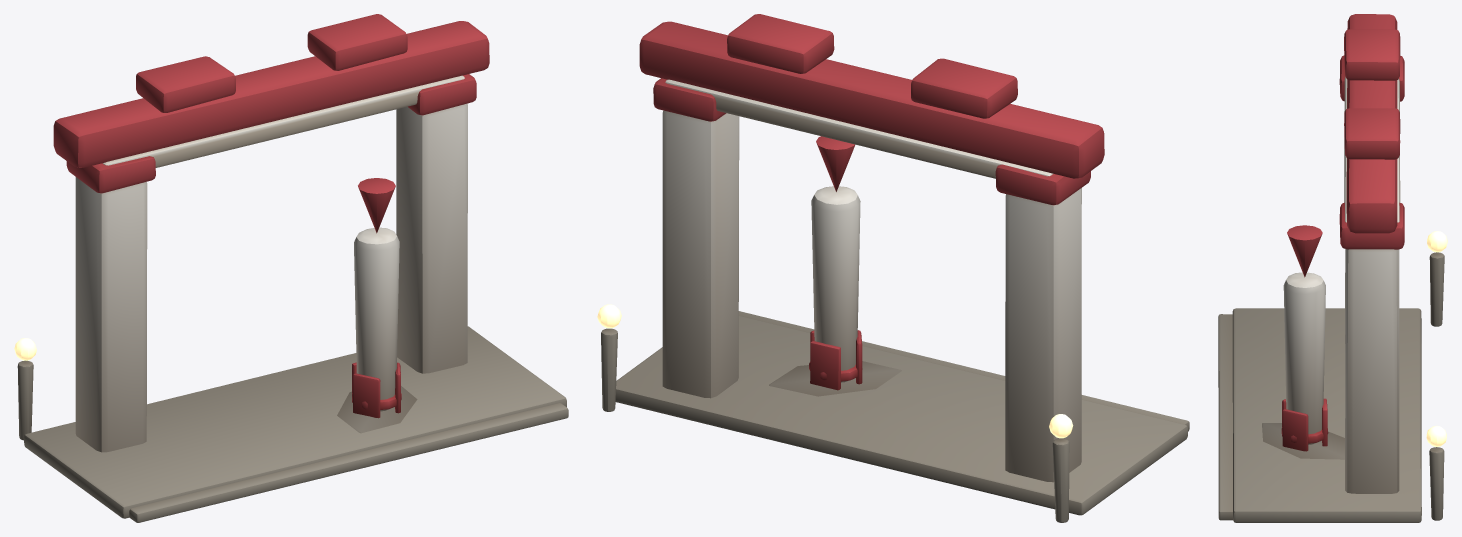
3 renders of one model, left to right at view 1: azimuth 30°, elevation 25°; view 2: azimuth 150°, elevation 25°; view 3: azimuth 270°, elevation 25°, orthographic. The views are drawn at different scales.
Visible parts, largest first — view 1: gate_a18a3556; view 2: gate_a18a3556; view 3: gate_a18a3556.
Part boxes in pixels (box(x1,y1,x2,y2)): gate_a18a3556: box(14, 14, 568, 522); gate_a18a3556: box(597, 14, 1189, 522); gate_a18a3556: box(1218, 14, 1447, 522).
Bounding box in the file's own units: 5.38 × 4.2 × 2.55.
